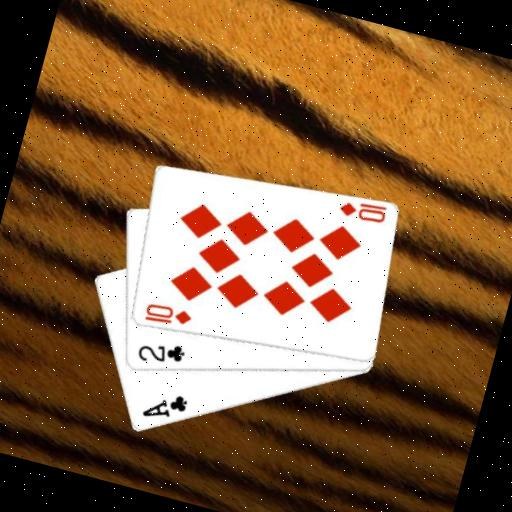10D: (334, 192, 390, 228), (139, 297, 194, 333)
2C: (132, 332, 188, 373)
AC: (138, 384, 191, 429)
